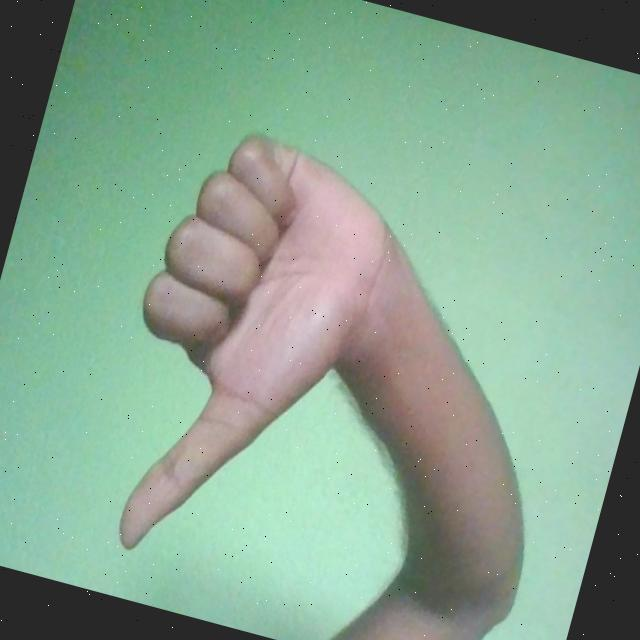Dislike: (77, 113, 412, 595)
